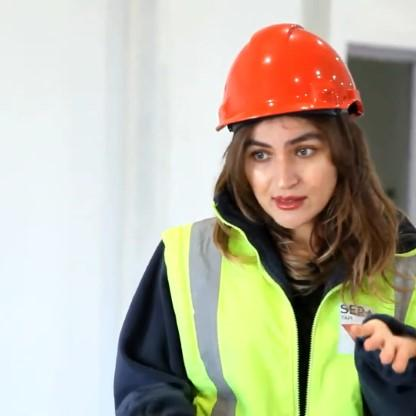helmet: (195, 25, 383, 244)
